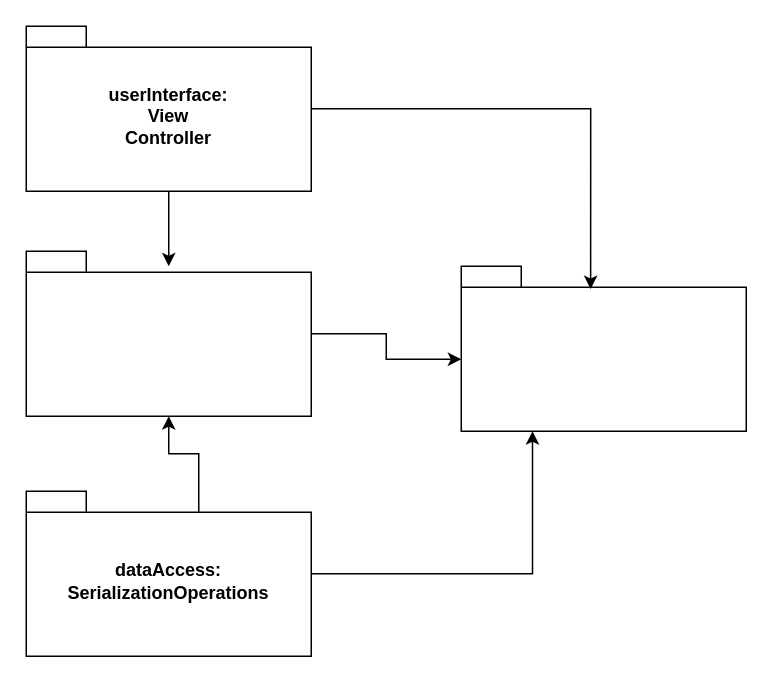
Image size: 773x683. Some labels were removed from this diagram. Each missing label, with the centre of its shape:
"businessLogic: TasksManagement Utility" belongs at (x=168, y=333).
"dataModel: Task SimpleTask ComplexTask Employee" belongs at (x=603, y=348).
